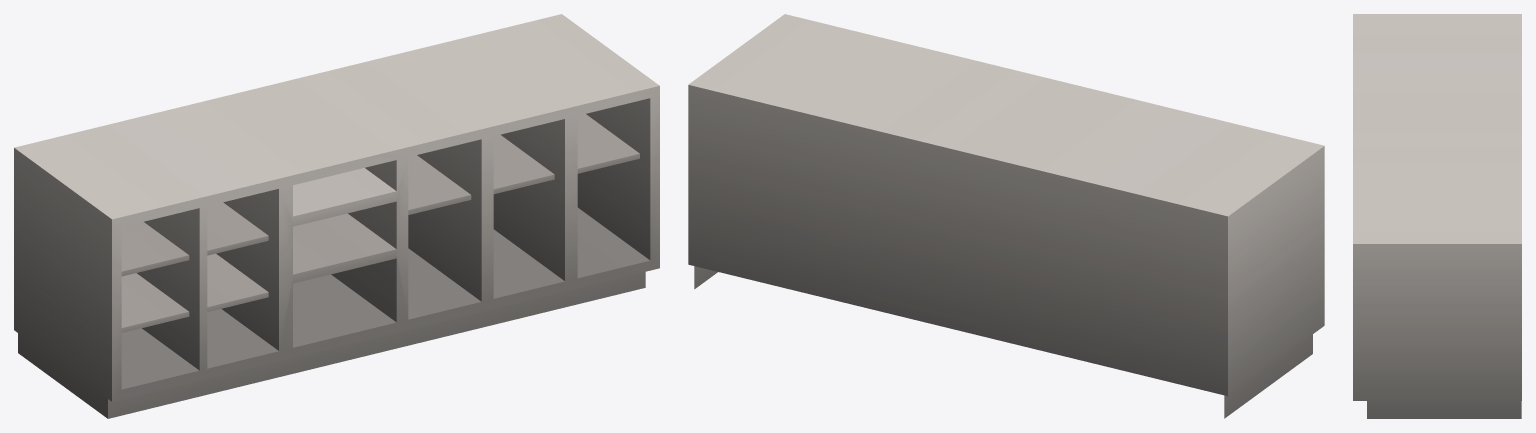
Rendered from Unit_250cm_open.fbx.
The picture shows the model from 3 angles, left to right: view 1: azimuth 30°, elevation 25°; view 2: azimuth 150°, elevation 25°; view 3: azimuth 270°, elevation 25°; orthographic projection. The views are drawn at different scales.
Parts seen in each view (by area): view 1: Unit_250cm_open; view 2: Unit_250cm_open; view 3: Unit_250cm_open.
Boxes of the visible parts, x1,y1,x2,y2 form: Unit_250cm_open: (14, 14, 659, 418); Unit_250cm_open: (688, 14, 1324, 418); Unit_250cm_open: (1353, 14, 1521, 418).
Size of the model in its own units: 250 by 90 by 77.55.
